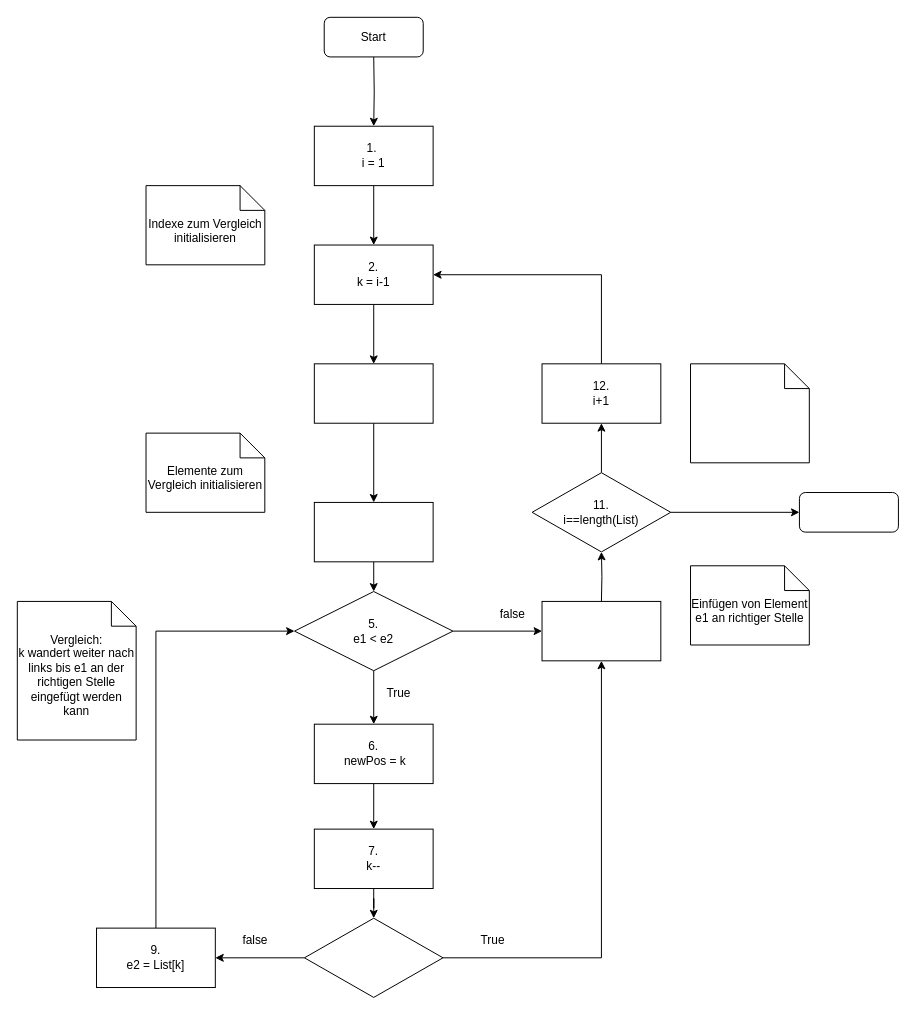
Image size: 916x1015. Some labels were removed from this diagram. The shapes that lost their labels are listed below. From the top down, each one's centre as x and y in pixels, then its label:
At [373,393]: "3. Element e1= [i]".
At [749,413]: "Abbruch wenn i am Ende angekommen ist oder hochzählen von i".
At [373,531]: "4. Element e2 = List[k]".
At [848,512]: "return sorted List".
At [601,630]: "10. insert e1 at newPos".
At [373,957]: "8. k<0".
